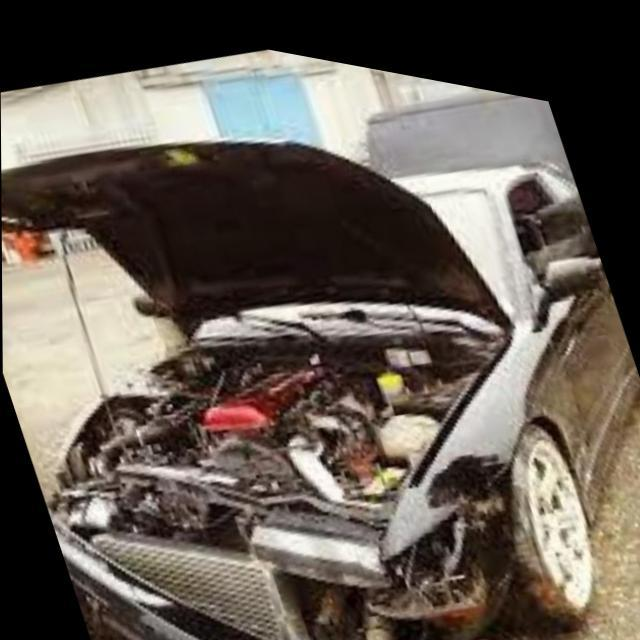no part: (43, 437, 550, 640)
